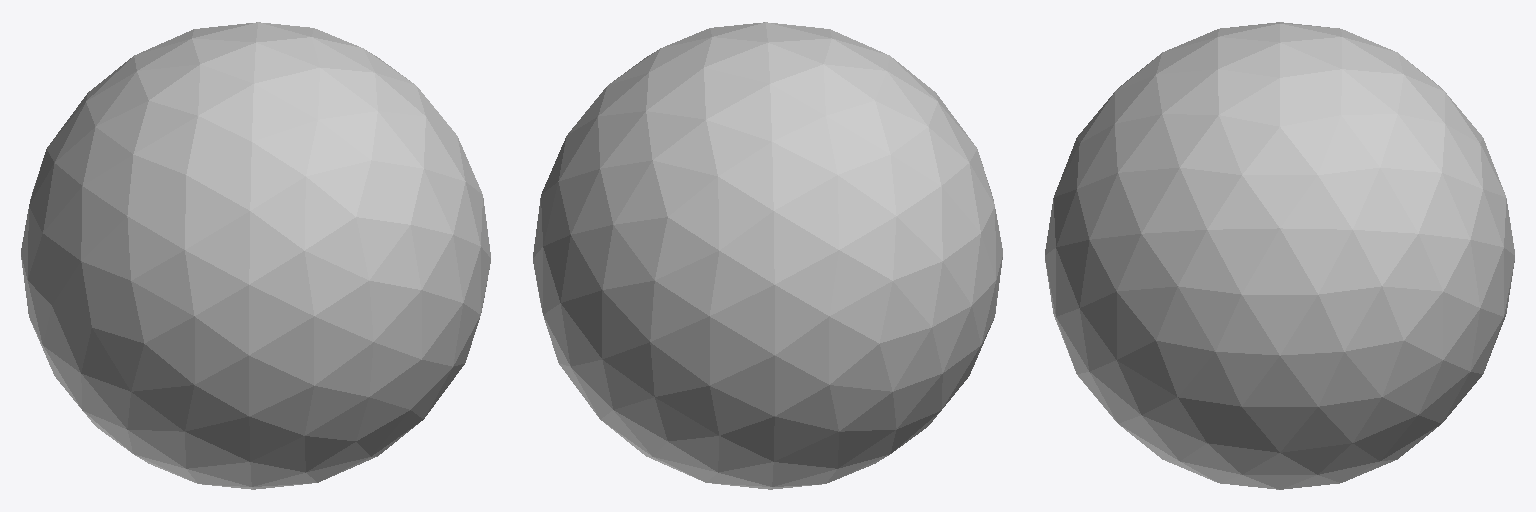
Rendered from SmoothTerrain.obj.
3 renders of one model, left to right at view 1: azimuth 30°, elevation 25°; view 2: azimuth 150°, elevation 25°; view 3: azimuth 270°, elevation 25°, orthographic.
Visible parts, largest first — view 1: SmoothTerrain; view 2: SmoothTerrain; view 3: SmoothTerrain.
Boxes of the visible parts, x1=… form: SmoothTerrain: x1=21, y1=22, x2=490, y2=489; SmoothTerrain: x1=533, y1=22, x2=1002, y2=489; SmoothTerrain: x1=1045, y1=22, x2=1514, y2=489.
Size of the model in its own units: 1 by 1 by 1.